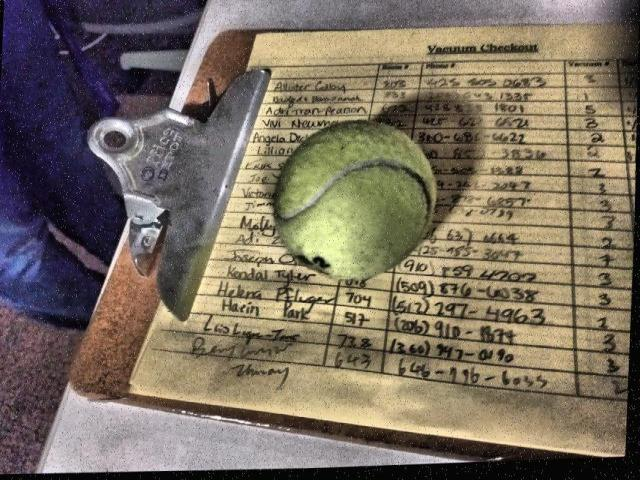tennis-ball: (264, 122, 460, 290)
